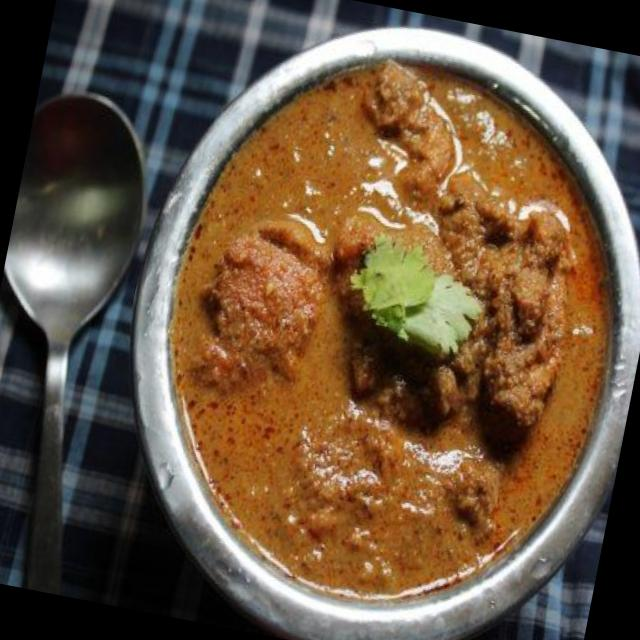chicken: (134, 39, 640, 632)
